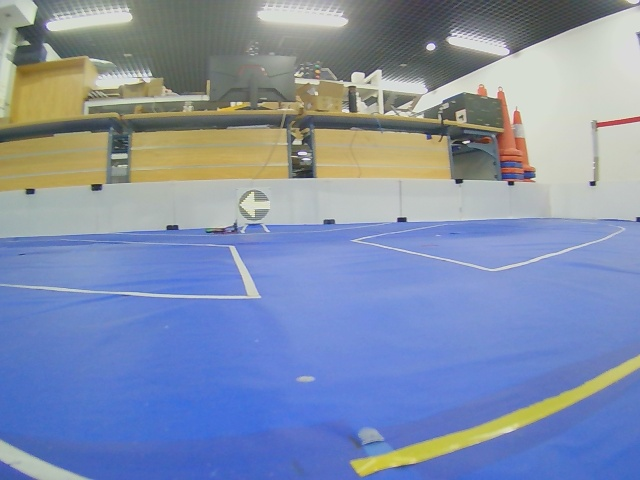left_yellow: (238, 189, 271, 222)
